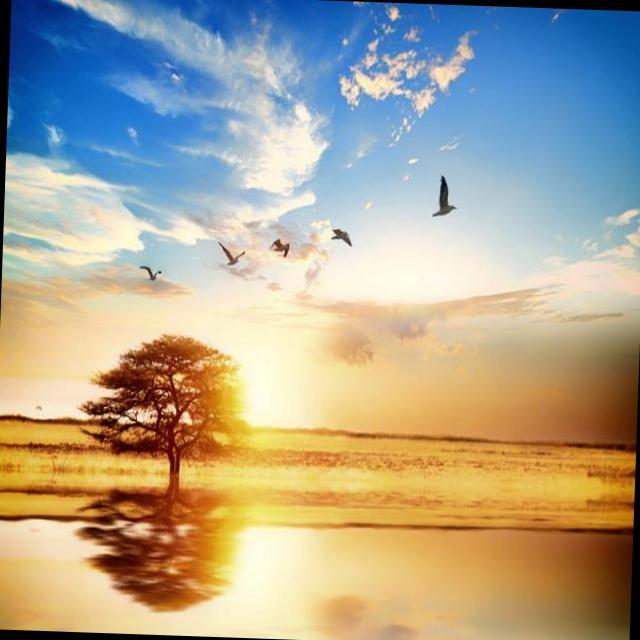bird: (429, 172, 462, 229), (214, 242, 248, 274), (329, 226, 362, 250), (136, 262, 166, 286), (266, 239, 294, 259)
